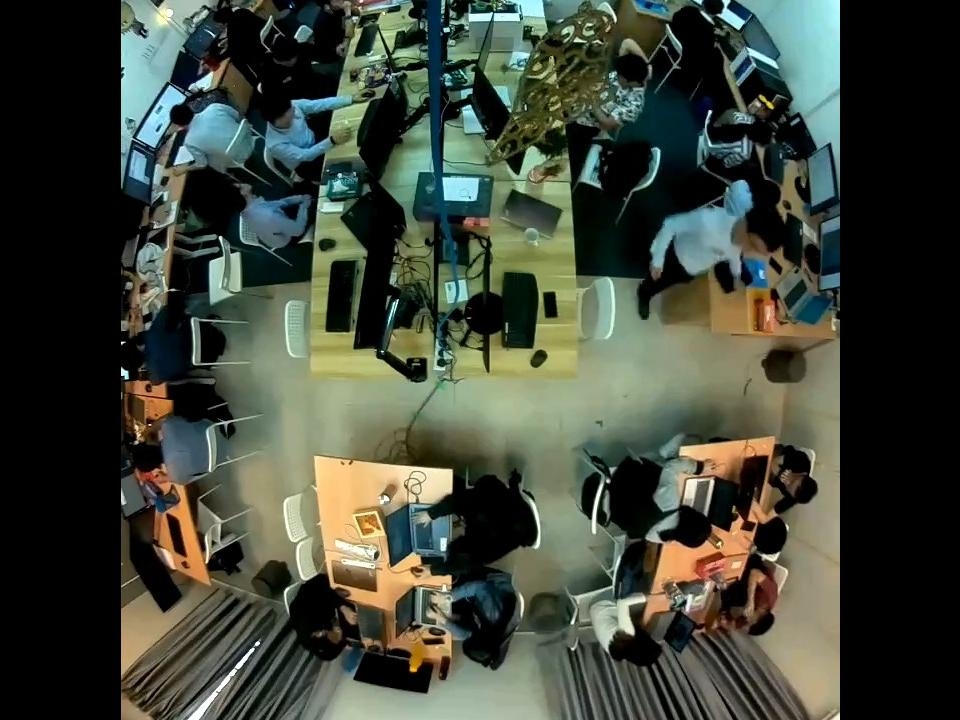name-tag: (708, 246, 726, 257)
